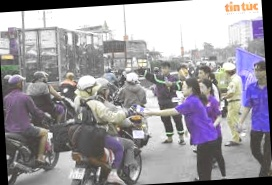Bien-so: (67, 165, 87, 179), (136, 133, 149, 142)
